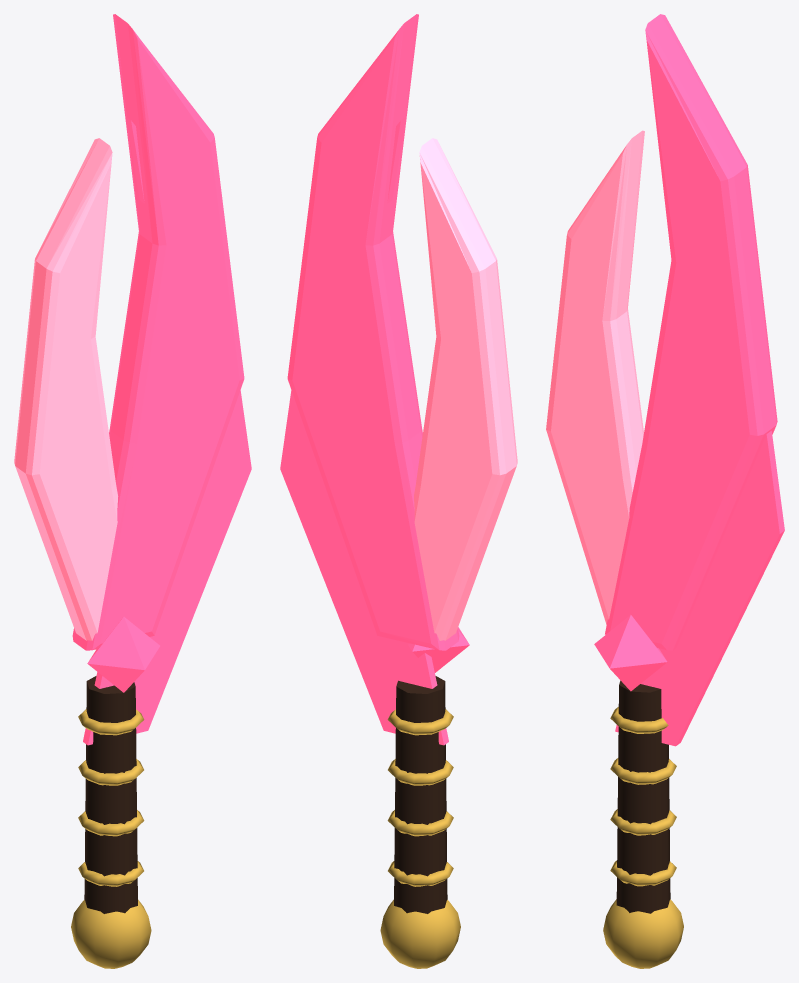
File: dagger_f3_e61a6dc0.glb
3 renders of one model, left to right at view 1: azimuth 30°, elevation 25°; view 2: azimuth 150°, elevation 25°; view 3: azimuth 330°, elevation 25°, orthographic.
Visible parts, largest first — view 1: m1_gm120_, m2_ow80_, m0_gm130_, m4_ow80_, m5_ow80_, m3_gm160_; view 2: m1_gm120_, m2_ow80_, m0_gm130_, m4_ow80_, m5_ow80_, m3_gm160_; view 3: m1_gm120_, m2_ow80_, m0_gm130_, m4_ow80_, m5_ow80_, m3_gm160_.
Part boxes in pixels (left/top/right/bottom): m1_gm120_: left=72, top=14, right=244, bottom=650; m2_ow80_: left=14, top=138, right=118, bottom=640; m0_gm130_: left=83, top=117, right=251, bottom=745; m4_ow80_: left=84, top=676, right=137, bottom=913; m5_ow80_: left=71, top=709, right=151, bottom=968; m3_gm160_: left=87, top=617, right=159, bottom=692; m1_gm120_: left=287, top=14, right=459, bottom=650; m2_ow80_: left=414, top=138, right=517, bottom=640; m0_gm130_: left=280, top=117, right=448, bottom=745; m4_ow80_: left=394, top=676, right=447, bottom=913; m5_ow80_: left=380, top=709, right=460, bottom=968; m3_gm160_: left=408, top=627, right=469, bottom=672; m1_gm120_: left=605, top=14, right=777, bottom=650; m2_ow80_: left=546, top=130, right=644, bottom=624; m0_gm130_: left=615, top=431, right=784, bottom=746; m4_ow80_: left=616, top=680, right=670, bottom=913; m5_ow80_: left=603, top=707, right=683, bottom=968; m3_gm160_: left=594, top=615, right=667, bottom=691.
Bounding box in the file's own units: 0.313 × 1.23 × 0.1257.
